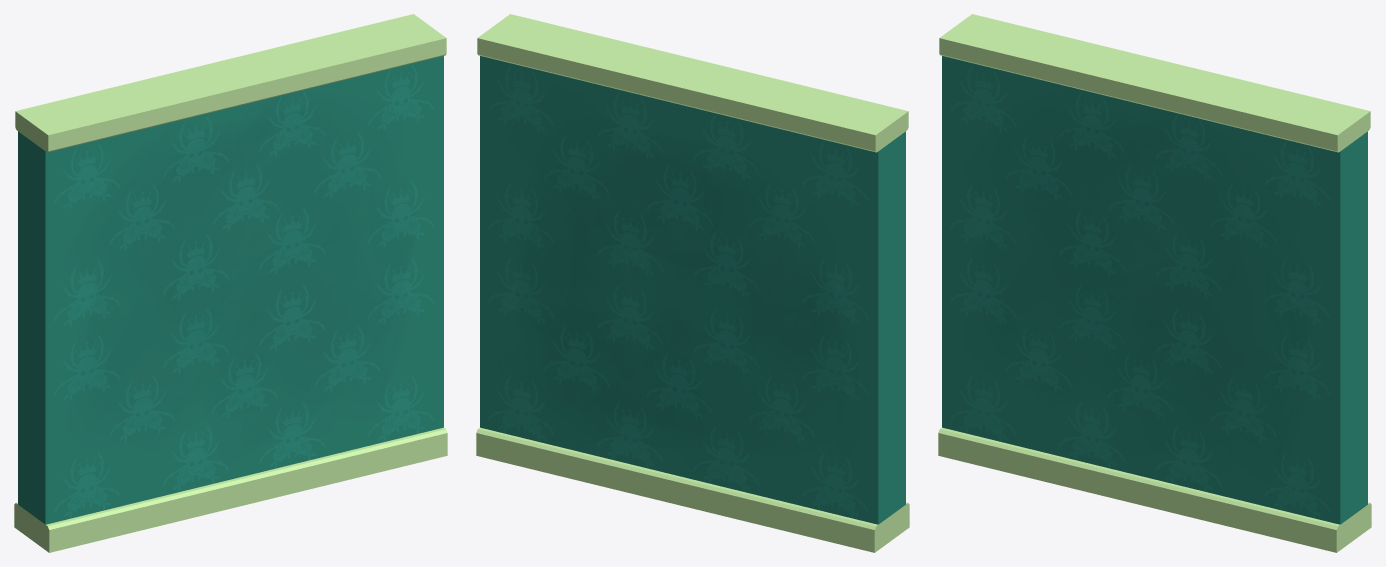
Rendered from ParedSola.obj.
The picture shows the model from 3 angles, left to right: view 1: azimuth 30°, elevation 25°; view 2: azimuth 150°, elevation 25°; view 3: azimuth 330°, elevation 25°; orthographic projection.
Visible parts, largest first — view 1: Pared_Sola; view 2: Pared_Sola; view 3: Pared_Sola.
Part boxes in pixels (bbox=[...]): Pared_Sola: bbox=[14, 14, 447, 552]; Pared_Sola: bbox=[476, 14, 909, 552]; Pared_Sola: bbox=[938, 14, 1371, 552].
Size of the model in its own units: 250 by 250 by 38.
Materials: 1 (1 with a texture image).
